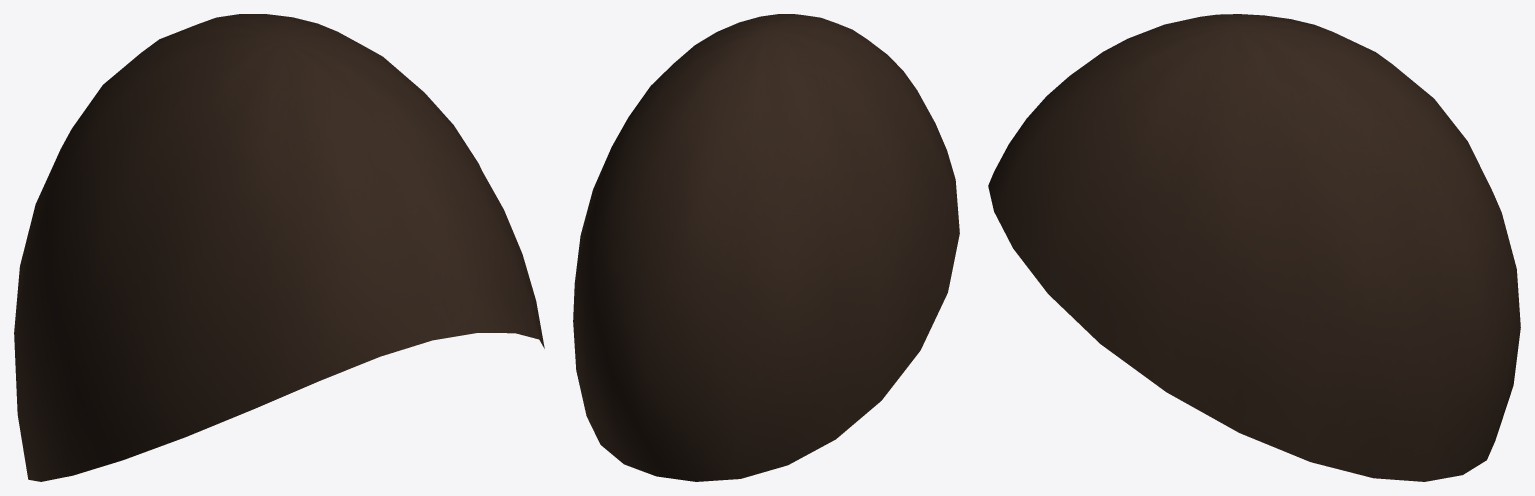
File: buzz.glb
3 renders of one model, left to right at view 1: azimuth 30°, elevation 25°; view 2: azimuth 150°, elevation 25°; view 3: azimuth 270°, elevation 25°, orthographic. The views are drawn at different scales.
Parts seen in each view (by area): view 1: hair-buzz; view 2: hair-buzz; view 3: hair-buzz.
Part boxes in pixels (box(x1,y1,x2,y2)): hair-buzz: box(14, 14, 544, 481); hair-buzz: box(573, 14, 959, 481); hair-buzz: box(988, 14, 1520, 481).
Bounding box in the file's own units: 0.1746 × 0.1983 × 0.2307.
1 material, 1 textured.
